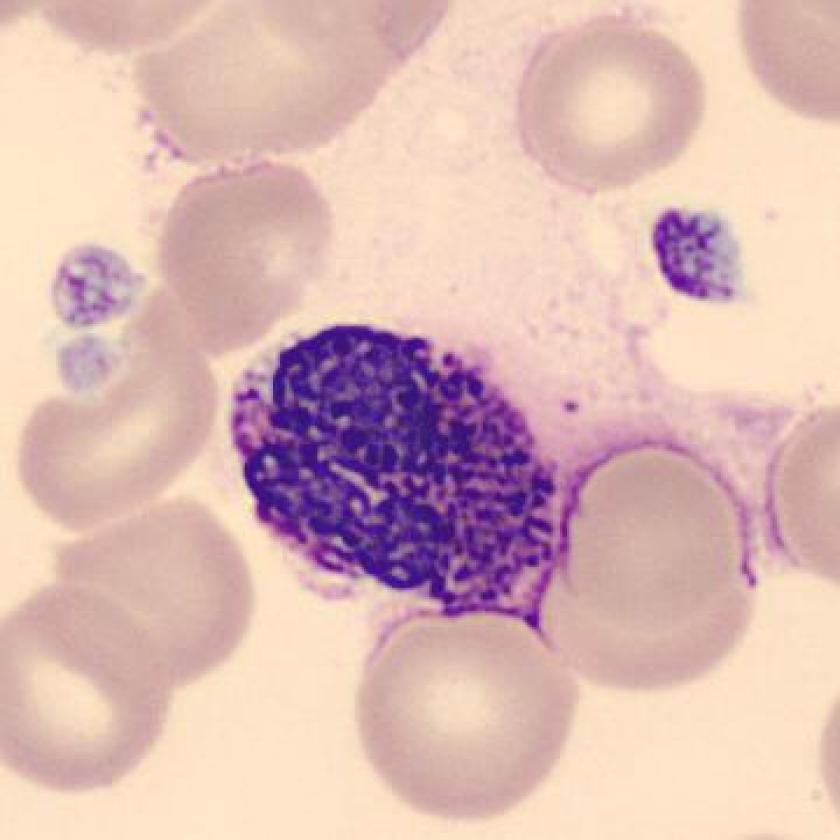basophil: (230, 313, 580, 619)
